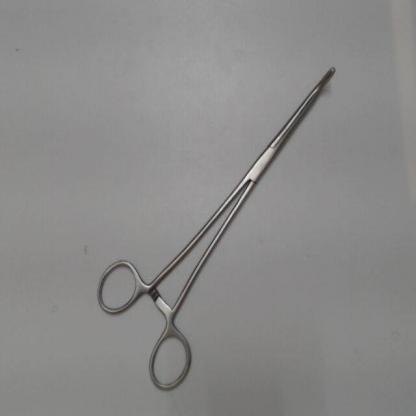Lahey Forceps: (94, 56, 342, 400)
